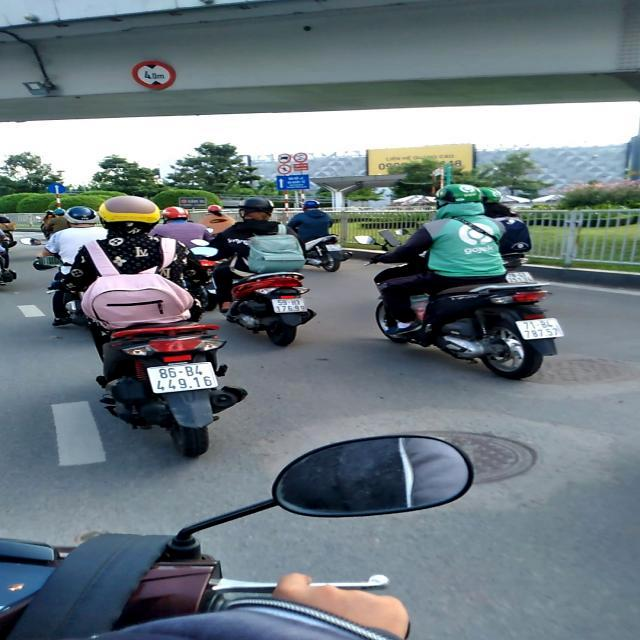Han che chieu cao: (131, 60, 176, 90)
